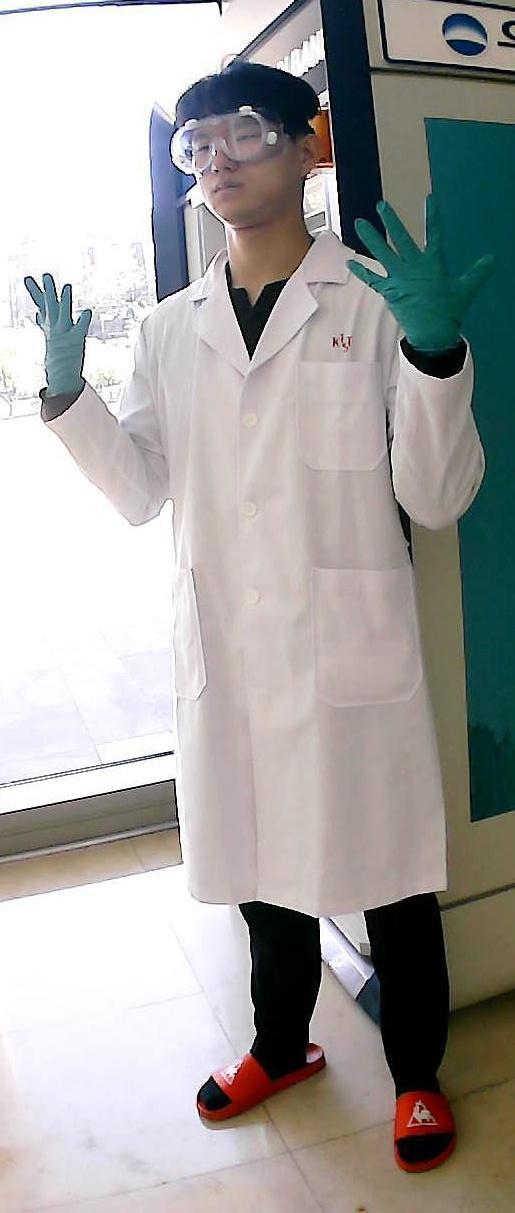lab_coat: (140, 348, 468, 898)
